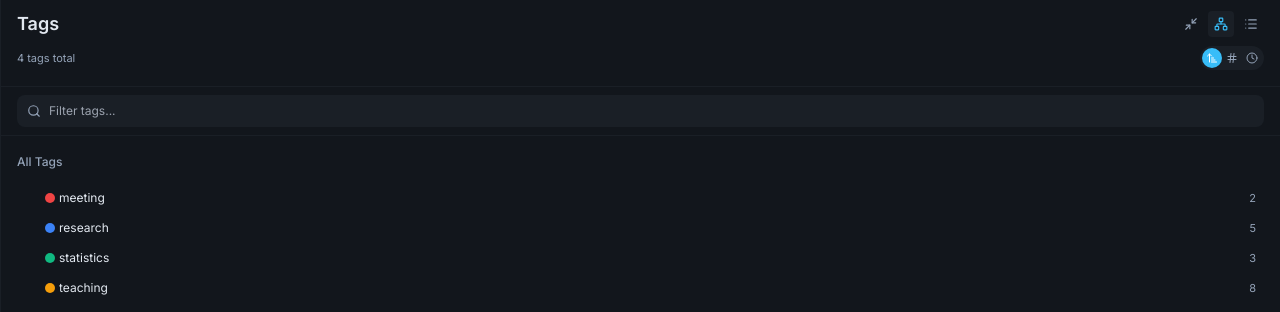
it: TagsPanel Component › Tag Search/Filter › shows filter count when searching
Type "research" into the field with placeholder "Filter tags..." at (640, 111), box x1=17 y1=95 x2=1264 y2=127
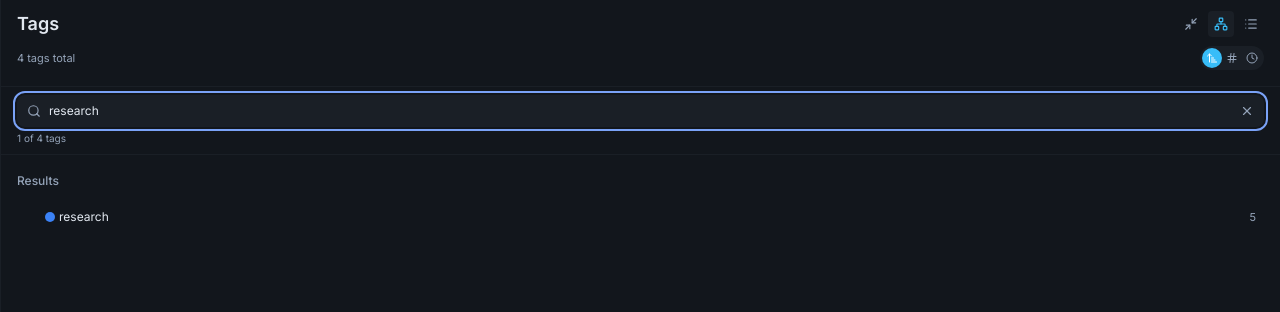
Check: the text "1 of 4 tags" is shown, box x1=17 y1=132 x2=66 y2=144
